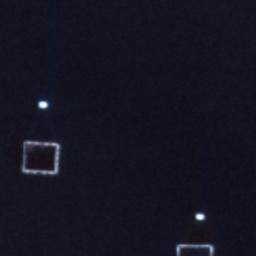square_solid: (18, 136, 65, 179), (172, 239, 219, 256)
